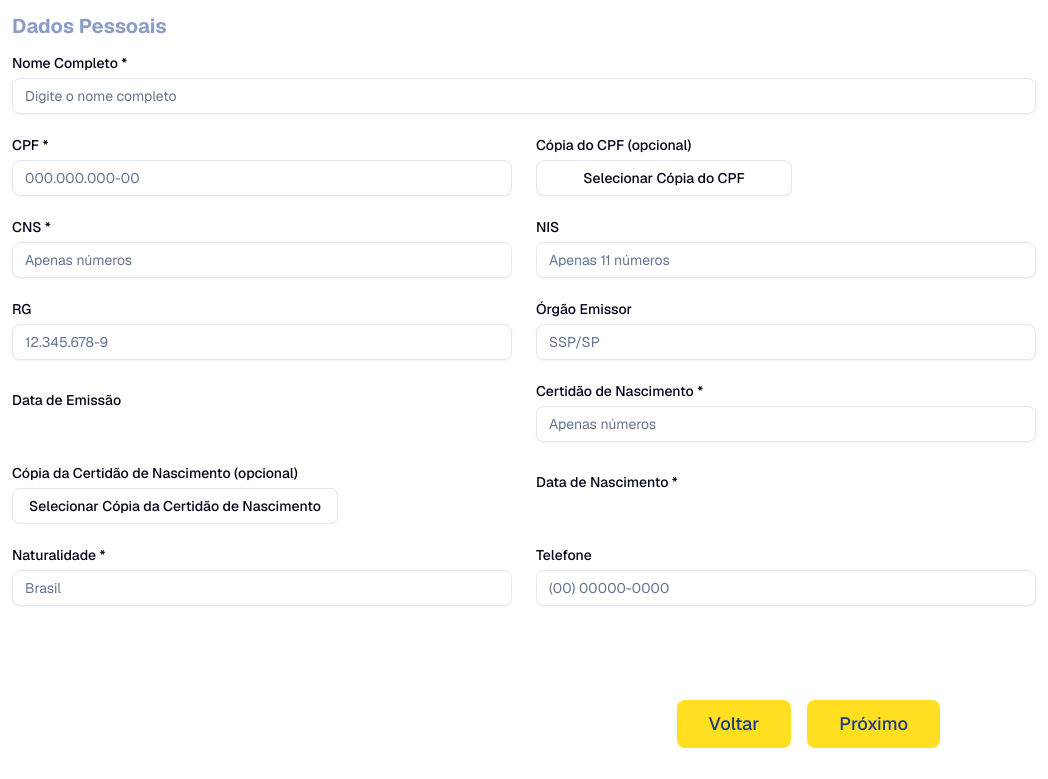
Test case: MembersRegisterPersonalPage - Cartório, Livro e Folha (#1132) › não limpa os valores do formulário quando os campos são escondidos e reexibidos
The image size is (1048, 779).
// Exibe os campos
Type "12345" into the field labelled "Certidão de Nascimento *" at point(786, 424), box [536,406,1036,442]
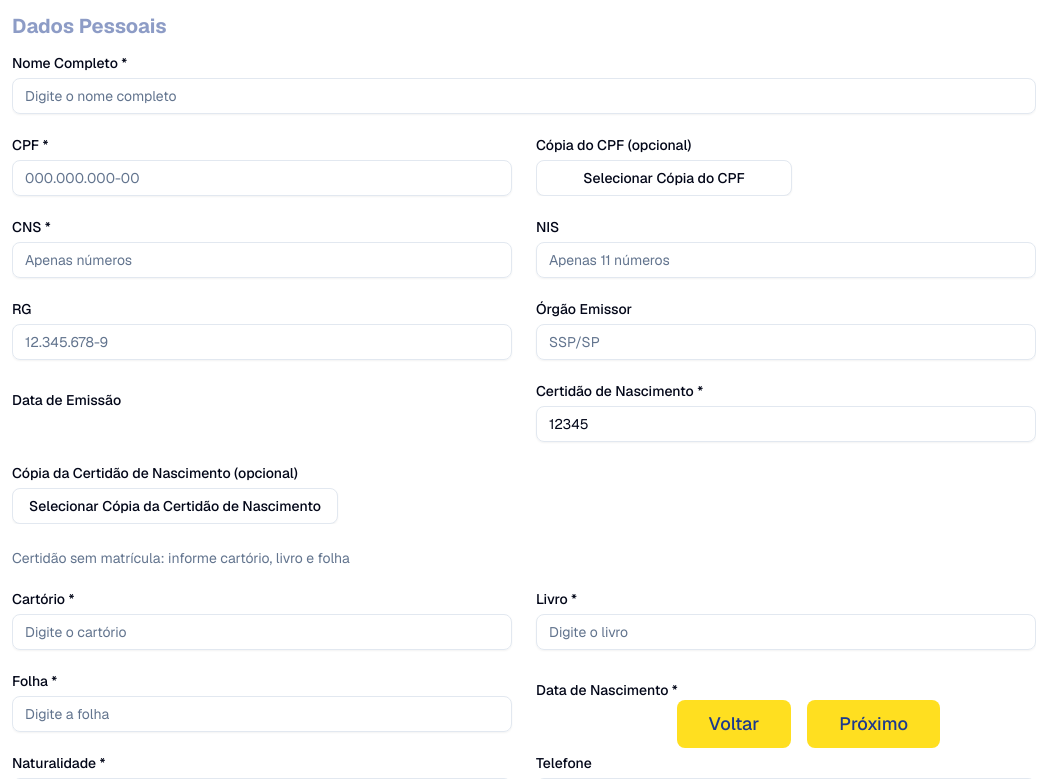
Type "1º Ofício de Registro" into the field labelled "Cartório *" at point(262, 632), box [12,614,512,650]
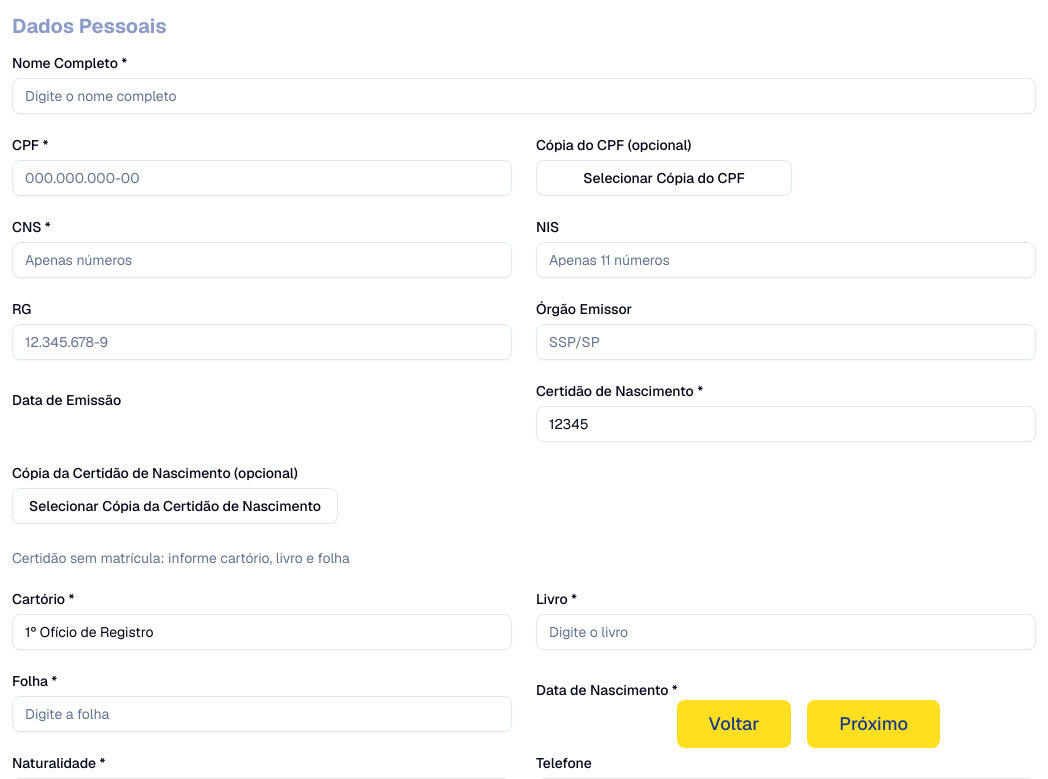
Type "Livro A-12" into the field labelled "Livro *" at point(786, 632), box [536,614,1036,650]
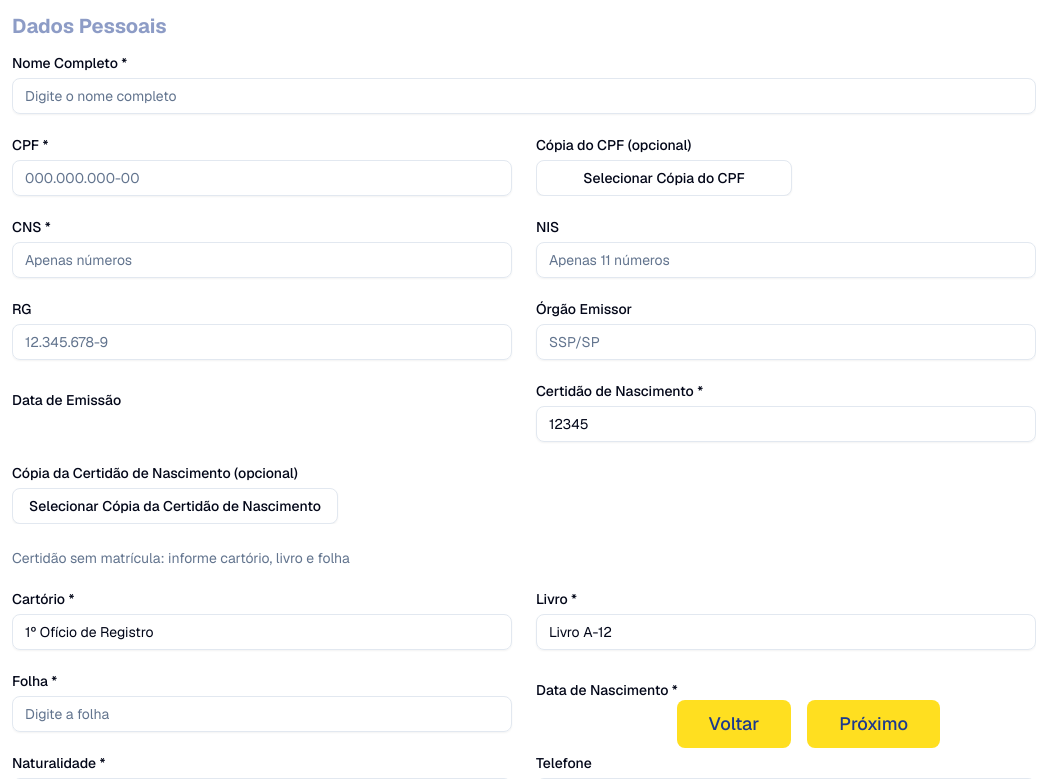
Type "045" into the field labelled "Folha *" at point(262, 714), box [12,696,512,732]
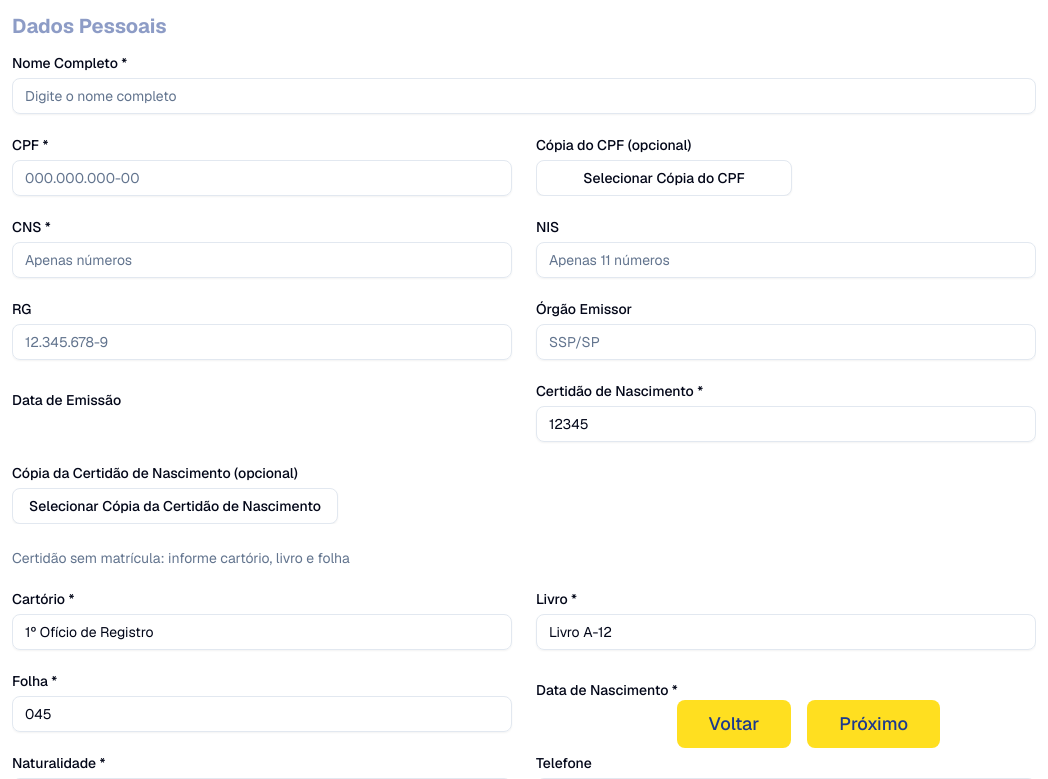
// Esconde ao mudar para 32 dígitos
Replace the text in the field labelled "Certidão de Nascimento *" with "12345678901234567890123456789012" at point(786, 424), box [536,406,1036,442]
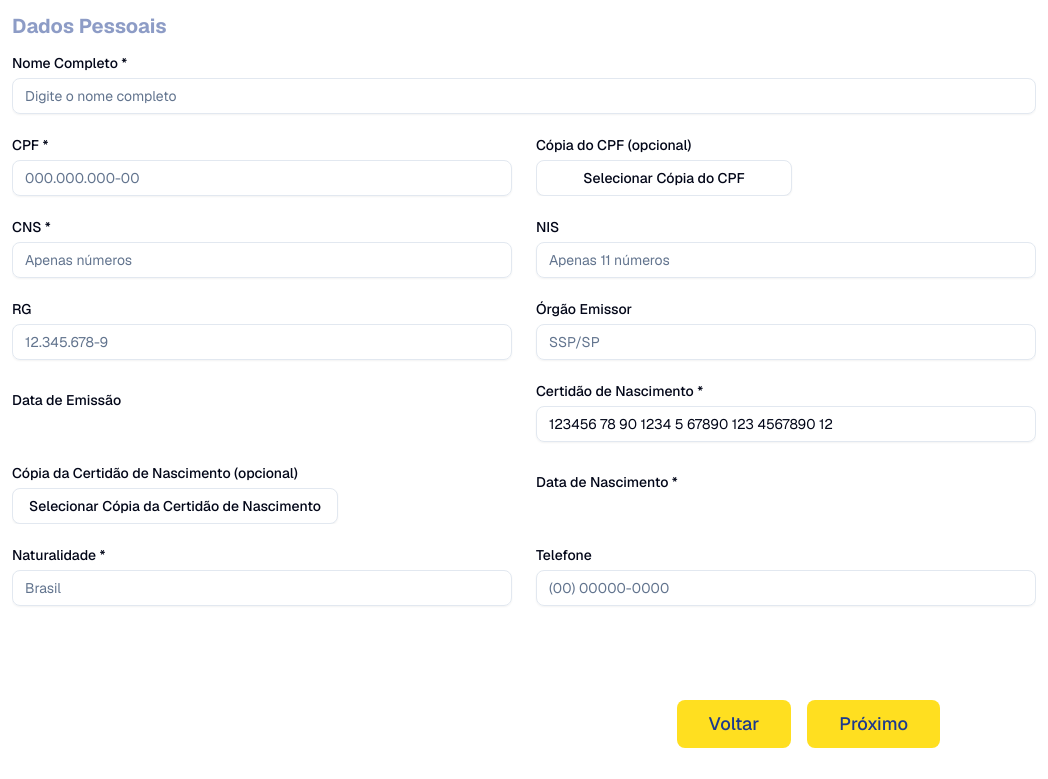
Check: the text labelled "cartório" is gone
// Volta para menos de 32 dígitos
Replace the text in the field labelled "Certidão de Nascimento *" with "9876" at point(786, 424), box [536,406,1036,442]
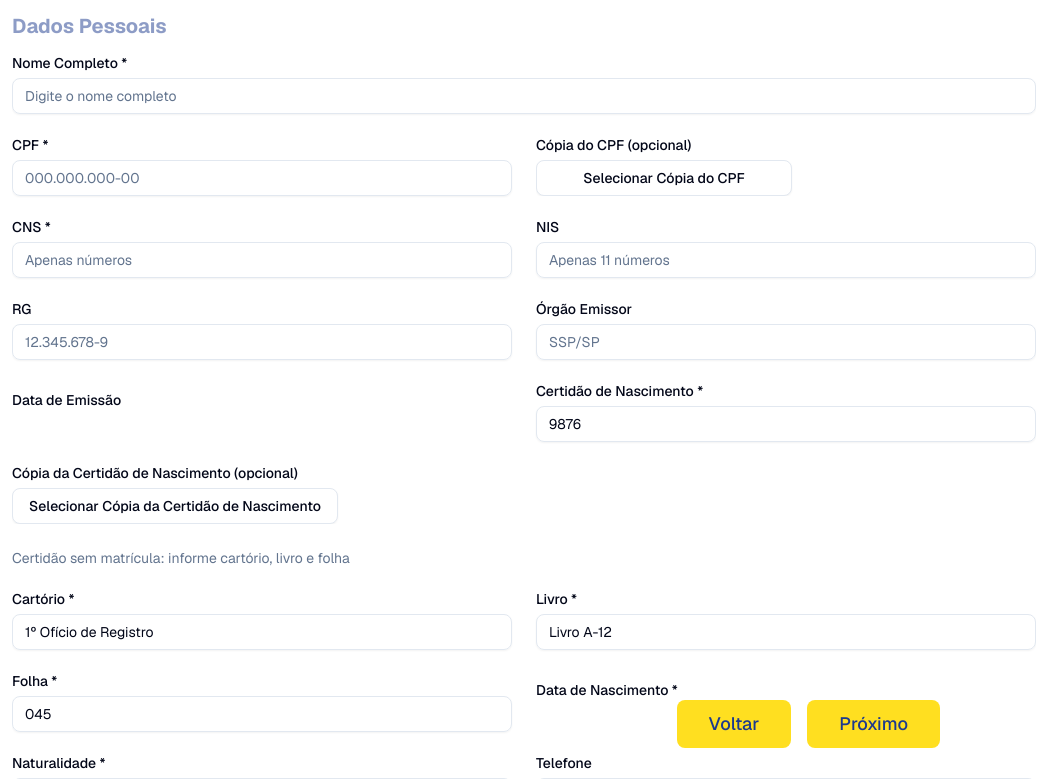
Check: the field labelled "Cartório *" holds "1º Ofício de Registro", box [12,614,512,650]
Check: the field labelled "Livro *" holds "Livro A-12", box [536,614,1036,650]
Check: the field labelled "Folha *" holds "045", box [12,696,512,732]
